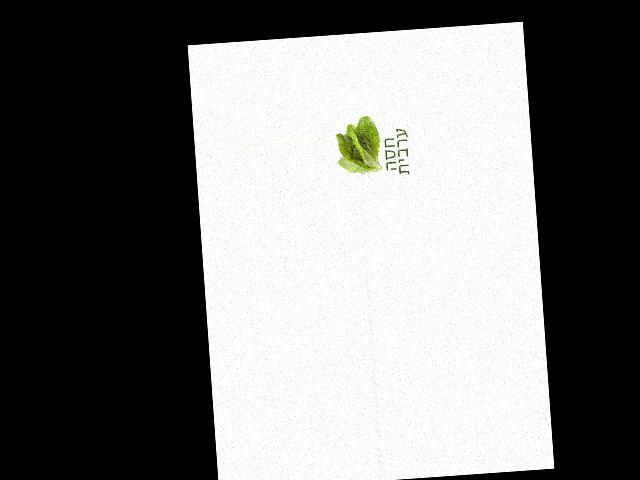lettuce: (334, 114, 388, 179)
